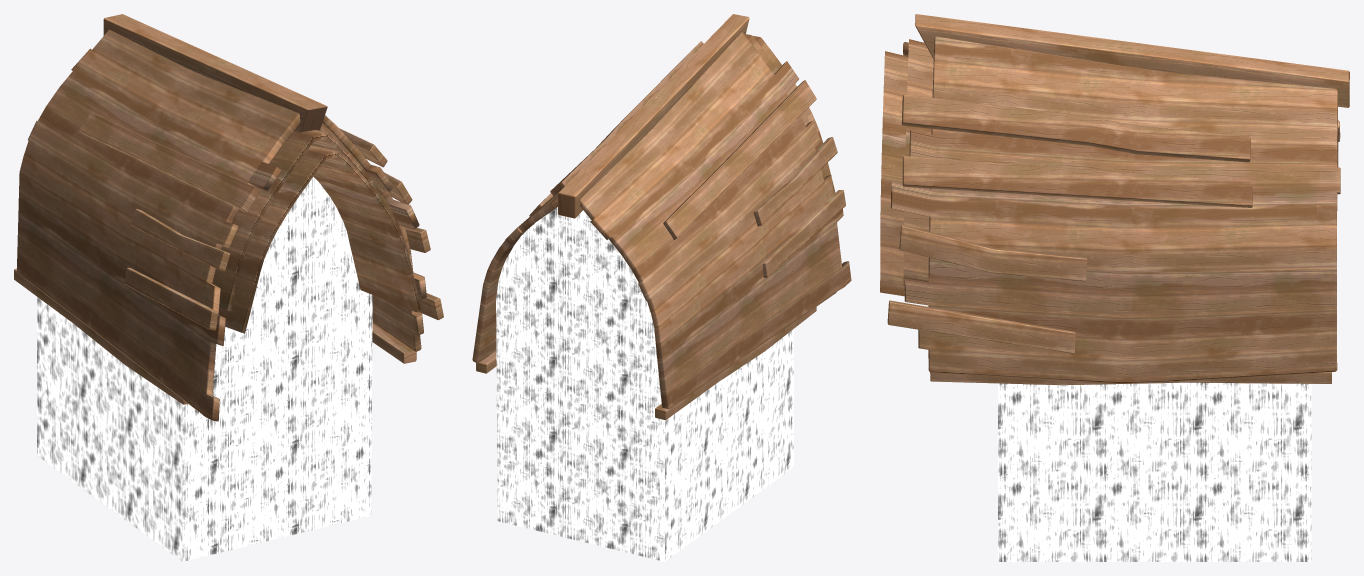
The model's file is SM_BuildingBase_03.fbx.
3 views of the same model, side by side, from view 1: azimuth 30°, elevation 25°; view 2: azimuth 150°, elevation 25°; view 3: azimuth 270°, elevation 25° (orthographic). The views are drawn at different scales.
Visible parts, largest first — view 1: SM_BuildingBase_03_LOD0; view 2: SM_BuildingBase_03_LOD0; view 3: SM_BuildingBase_03_LOD0.
Boxes of the visible parts, bbox=[...] form: SM_BuildingBase_03_LOD0: bbox=[14, 14, 443, 561]; SM_BuildingBase_03_LOD0: bbox=[472, 14, 851, 561]; SM_BuildingBase_03_LOD0: bbox=[880, 14, 1349, 561].
Size of the model in its own units: 728 by 1198 by 1394.
2 materials, 2 textured.
